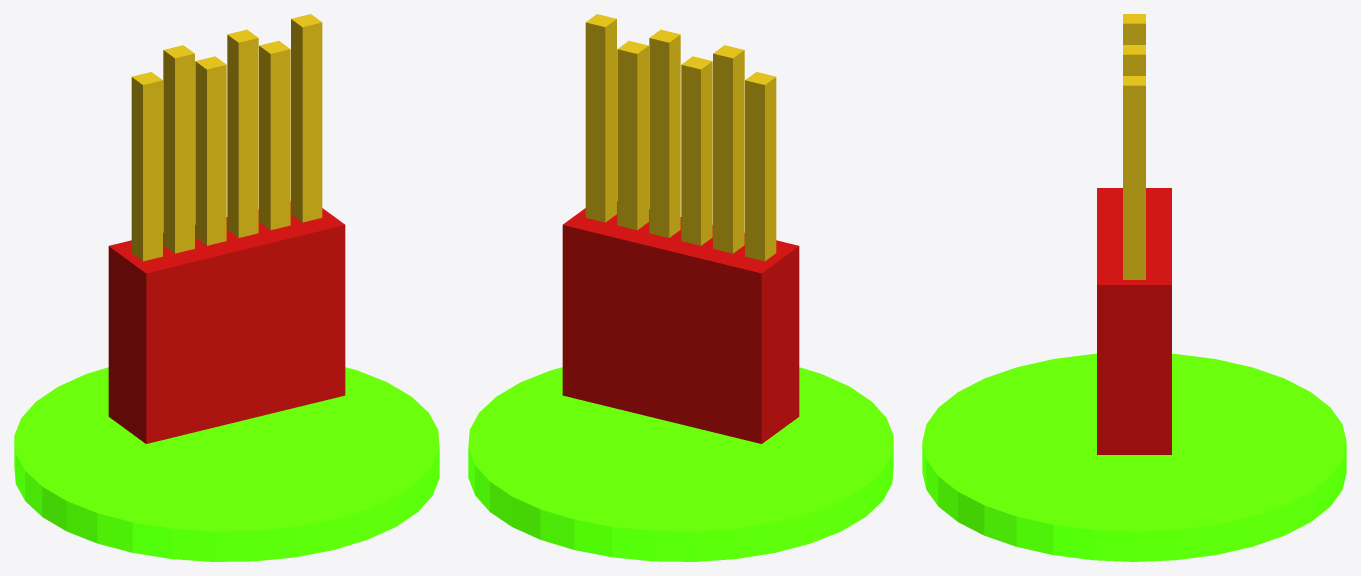
File: food_french_fries.dae
3 views of the same model, side by side, from view 1: azimuth 30°, elevation 25°; view 2: azimuth 150°, elevation 25°; view 3: azimuth 270°, elevation 25° (orthographic).
Parts seen in each view (by area): view 1: 01_04_Popular_Food_French_Fries_ROOT_base, 01_04_Popular_Food_French_Fries_part_01, 01_04_Popular_Food_French_Fries_part_03, 01_04_Popular_Food_French_Fries_part_07, 01_04_Popular_Food_French_Fries_part_05, 01_04_Popular_Food_French_Fries_part_06, 01_04_Popular_Food_French_Fries_part_02, 01_04_Popular_Food_French_Fries_part_04; view 2: 01_04_Popular_Food_French_Fries_ROOT_base, 01_04_Popular_Food_French_Fries_part_01, 01_04_Popular_Food_French_Fries_part_03, 01_04_Popular_Food_French_Fries_part_07, 01_04_Popular_Food_French_Fries_part_05, 01_04_Popular_Food_French_Fries_part_06, 01_04_Popular_Food_French_Fries_part_02, 01_04_Popular_Food_French_Fries_part_04; view 3: 01_04_Popular_Food_French_Fries_ROOT_base, 01_04_Popular_Food_French_Fries_part_01, 01_04_Popular_Food_French_Fries_part_07, 01_04_Popular_Food_French_Fries_part_03, 01_04_Popular_Food_French_Fries_part_05.
Boxes of the visible parts, <box> form: 01_04_Popular_Food_French_Fries_ROOT_base: <box>14,367,439,561</box>; 01_04_Popular_Food_French_Fries_part_01: <box>108,201,345,443</box>; 01_04_Popular_Food_French_Fries_part_03: <box>163,45,194,253</box>; 01_04_Popular_Food_French_Fries_part_07: <box>291,14,322,222</box>; 01_04_Popular_Food_French_Fries_part_05: <box>227,29,258,237</box>; 01_04_Popular_Food_French_Fries_part_06: <box>259,41,290,230</box>; 01_04_Popular_Food_French_Fries_part_02: <box>131,72,162,261</box>; 01_04_Popular_Food_French_Fries_part_04: <box>195,56,226,245</box>; 01_04_Popular_Food_French_Fries_ROOT_base: <box>468,367,893,561</box>; 01_04_Popular_Food_French_Fries_part_01: <box>562,201,799,443</box>; 01_04_Popular_Food_French_Fries_part_03: <box>713,45,744,253</box>; 01_04_Popular_Food_French_Fries_part_07: <box>585,14,616,222</box>; 01_04_Popular_Food_French_Fries_part_05: <box>649,29,680,237</box>; 01_04_Popular_Food_French_Fries_part_06: <box>617,41,648,230</box>; 01_04_Popular_Food_French_Fries_part_02: <box>745,72,776,261</box>; 01_04_Popular_Food_French_Fries_part_04: <box>681,56,712,245</box>; 01_04_Popular_Food_French_Fries_ROOT_base: <box>922,354,1346,561</box>; 01_04_Popular_Food_French_Fries_part_01: <box>1097,188,1171,454</box>; 01_04_Popular_Food_French_Fries_part_07: <box>1123,76,1145,279</box>; 01_04_Popular_Food_French_Fries_part_03: <box>1123,14,1145,44</box>; 01_04_Popular_Food_French_Fries_part_05: <box>1123,45,1145,75</box>.
Bounding box in the file's own units: 0.76 × 0.85 × 0.76.
